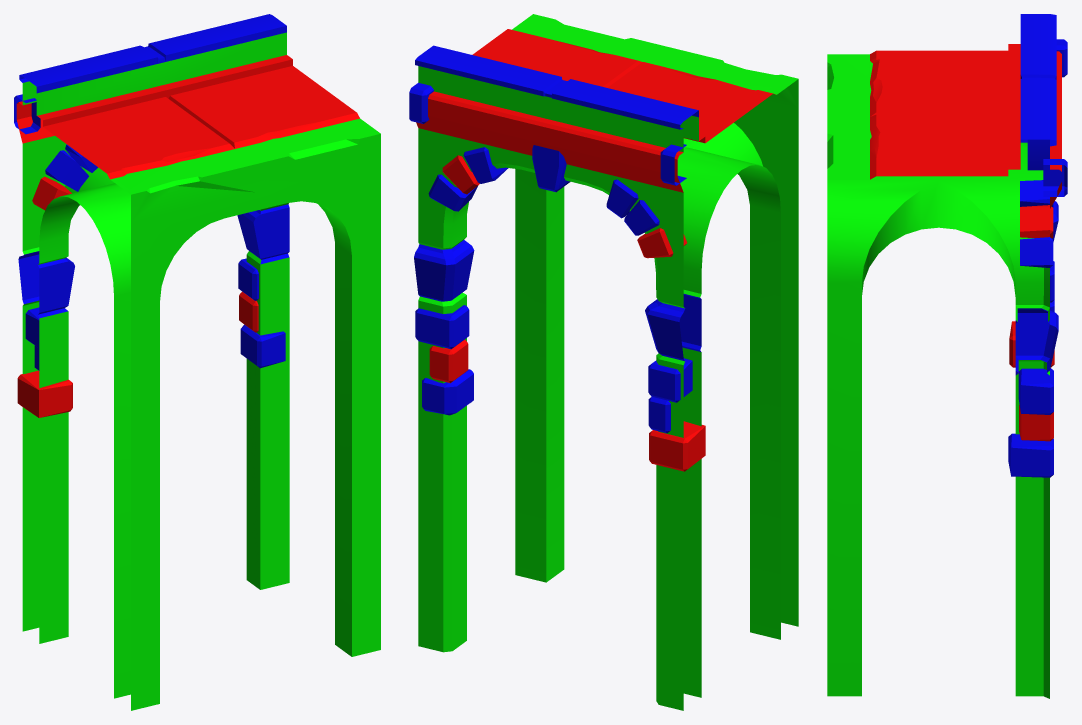
Rendered from dungeon_base_edge.fbx.
3 views of the same model, side by side, from view 1: azimuth 30°, elevation 25°; view 2: azimuth 150°, elevation 25°; view 3: azimuth 270°, elevation 25° (orthographic). The views are drawn at different scales.
Visible parts, largest first — view 1: dungeon_base_edge; view 2: dungeon_base_edge; view 3: dungeon_base_edge.
Part boxes in pixels (box(x1,y1,x2,y2)): dungeon_base_edge: box(14, 14, 380, 710); dungeon_base_edge: box(409, 14, 798, 710); dungeon_base_edge: box(827, 14, 1067, 698).
Size of the model in its own units: 205 by 162 by 424.
